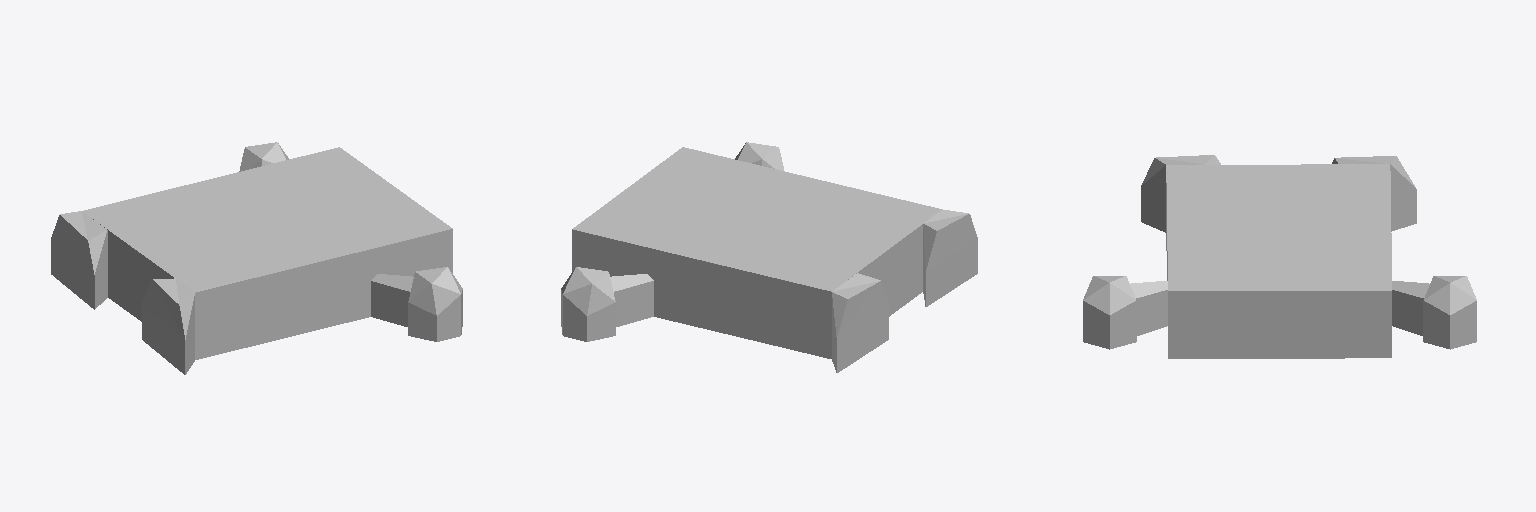
Rendered from whomp-collision.obj.
3 renders of one model, left to right at view 1: azimuth 30°, elevation 25°; view 2: azimuth 150°, elevation 25°; view 3: azimuth 270°, elevation 25°, orthographic.
Visible parts, largest first — view 1: Whomp_Collision_Collision; view 2: Whomp_Collision_Collision; view 3: Whomp_Collision_Collision.
Part boxes in pixels (x1,y1,x2,y2): Whomp_Collision_Collision: (51, 142, 462, 374); Whomp_Collision_Collision: (561, 142, 977, 372); Whomp_Collision_Collision: (1083, 155, 1476, 358).
Size of the model in its own units: 8.26 by 1.93 by 9.99.